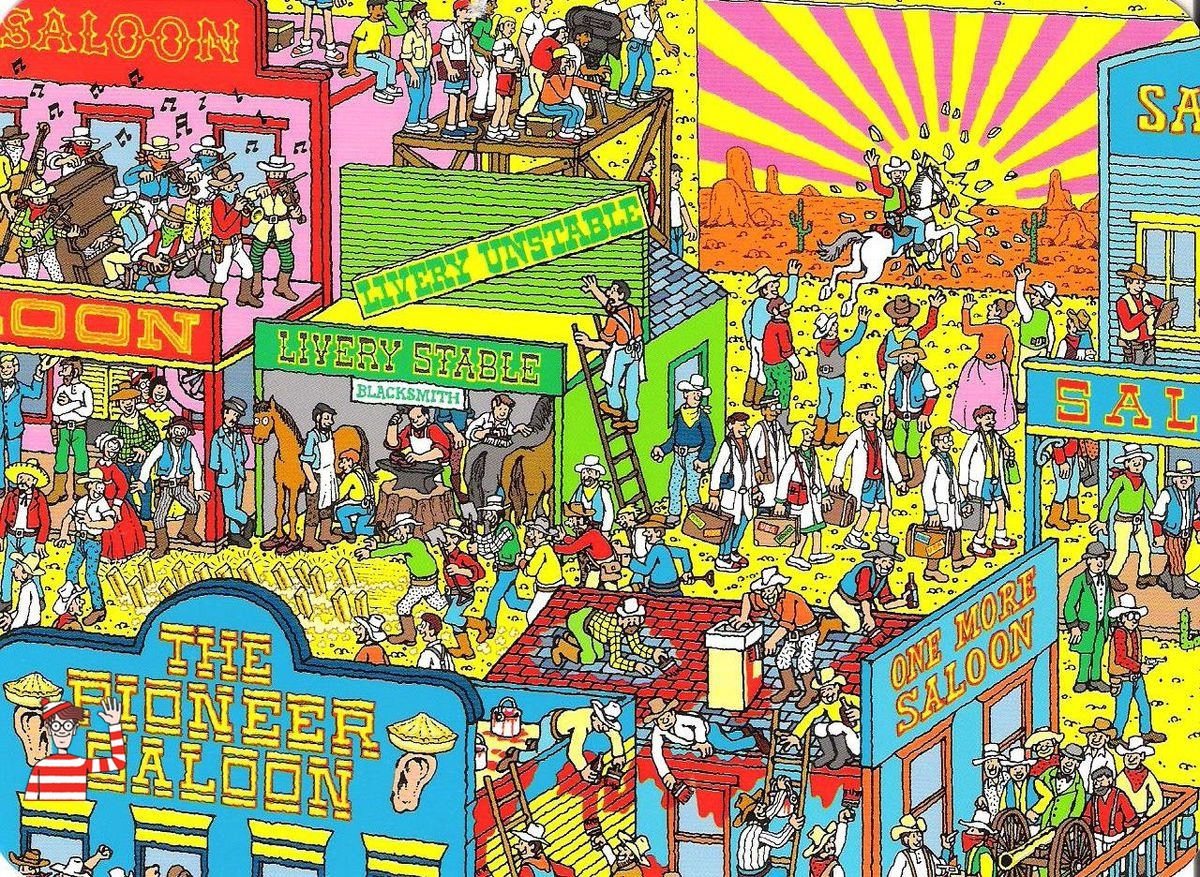waldo: (23, 696, 127, 801)
